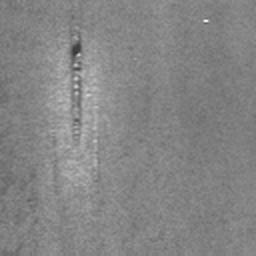Slag inclusion: (68, 14, 86, 148)
